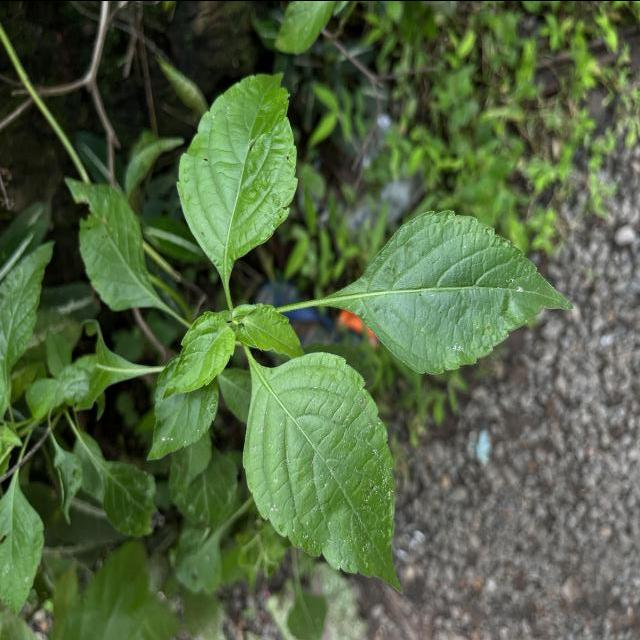Ocimum gratissimum: (294, 206, 576, 377), (240, 344, 406, 598), (174, 66, 302, 278), (62, 172, 180, 315), (155, 306, 236, 404)
